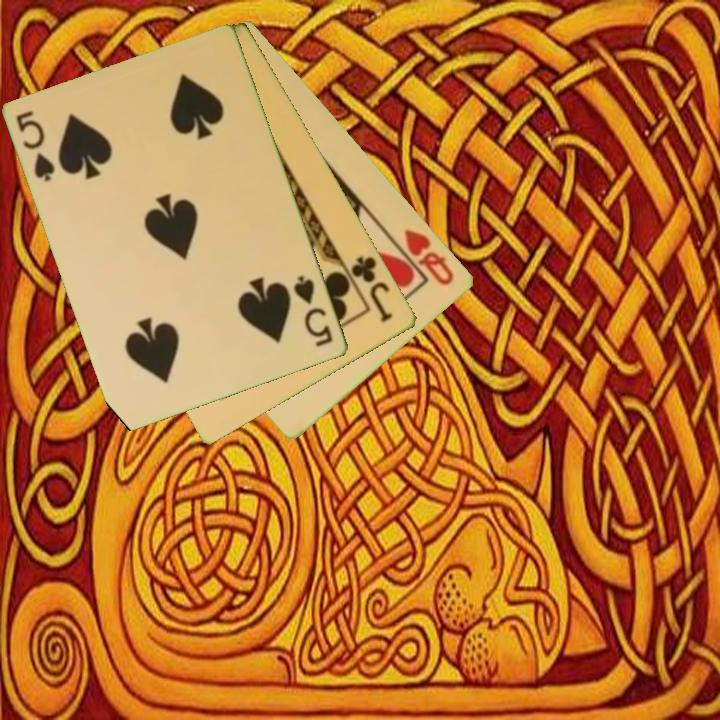5s: (290, 272, 337, 350), (13, 107, 59, 185)
Jc: (347, 252, 396, 326)
Qh: (401, 225, 457, 289)
